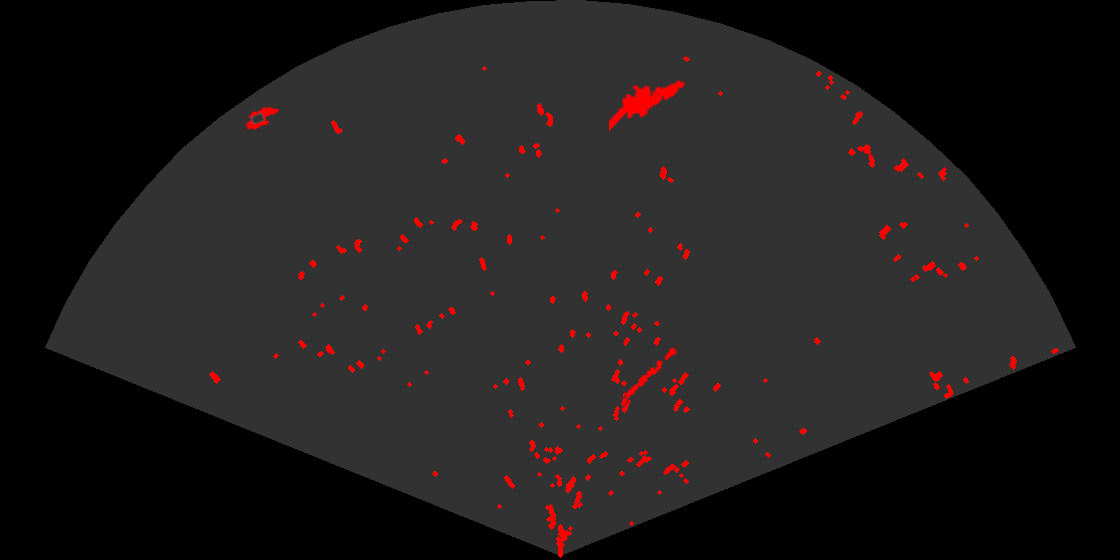AUV: (244, 105, 281, 132)
chain: (619, 339, 683, 408)
frogman: (609, 79, 687, 133)
